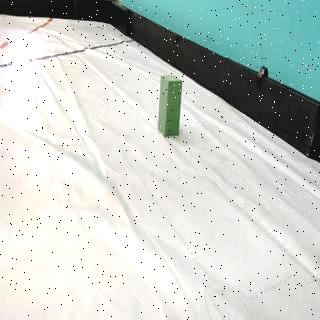greenbox: (158, 75, 182, 139)
